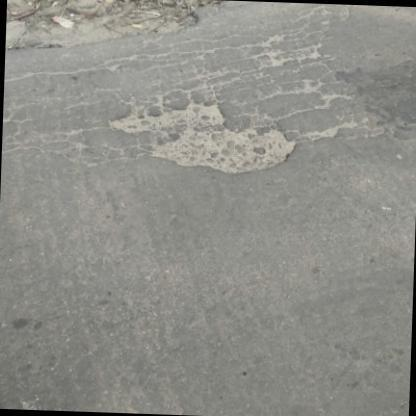pothole: (112, 95, 300, 174)
